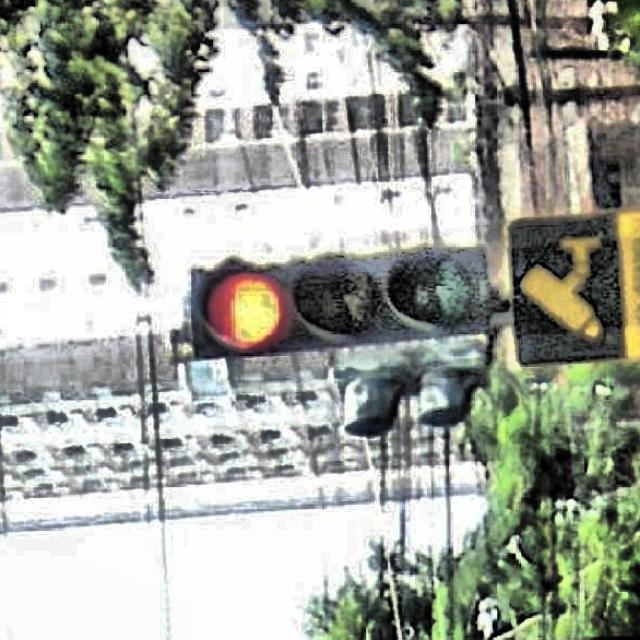red: (184, 245, 494, 356)
